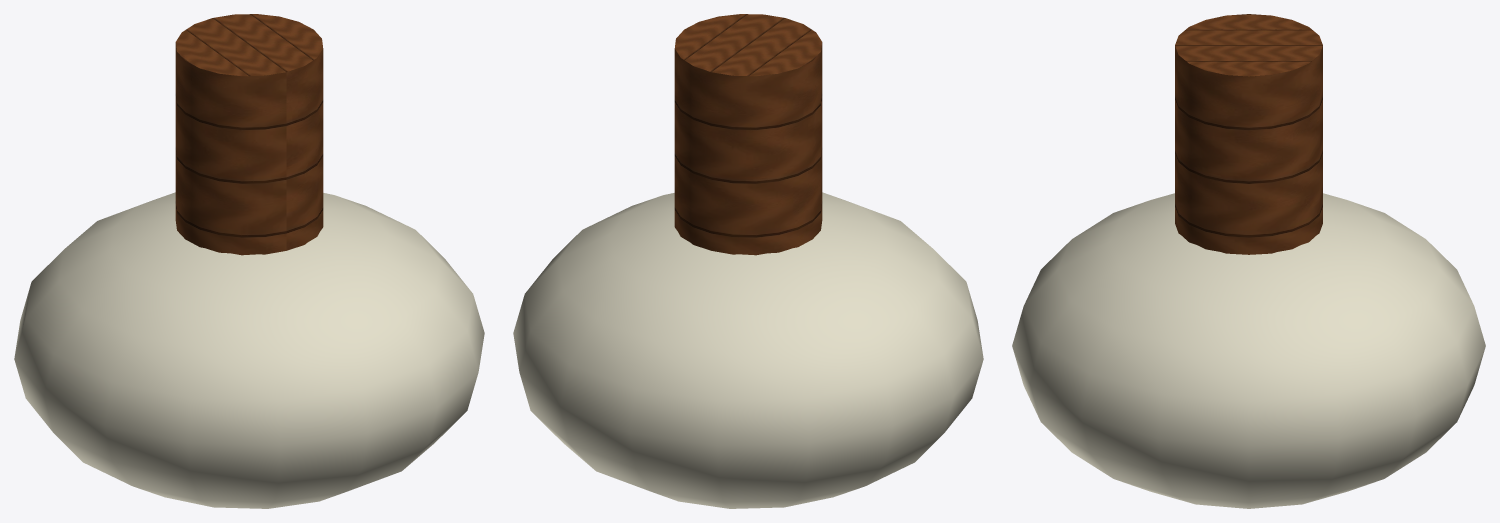
File: primitive-crafting-workshop-pottery-anvil-a744045c__21582.glb
The picture shows the model from 3 angles, left to right: view 1: azimuth 30°, elevation 25°; view 2: azimuth 150°, elevation 25°; view 3: azimuth 270°, elevation 25°; orthographic projection.
Parts seen in each view (by area): view 1: pottery-anvil; view 2: pottery-anvil; view 3: pottery-anvil.
Boxes of the visible parts, x1=… form: pottery-anvil: x1=14, y1=14, x2=484, y2=508; pottery-anvil: x1=513, y1=14, x2=983, y2=508; pottery-anvil: x1=1012, y1=14, x2=1485, y2=508.
Bounding box in the file's own units: 0.16 × 0.16 × 0.16.
Materials: 2 (1 with a texture image).
